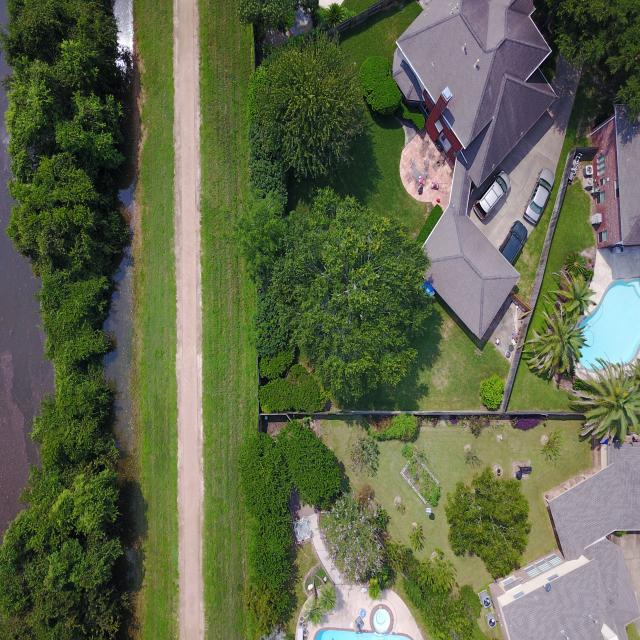fire: (0, 81, 53, 535), (104, 245, 134, 453), (114, 0, 133, 48)
